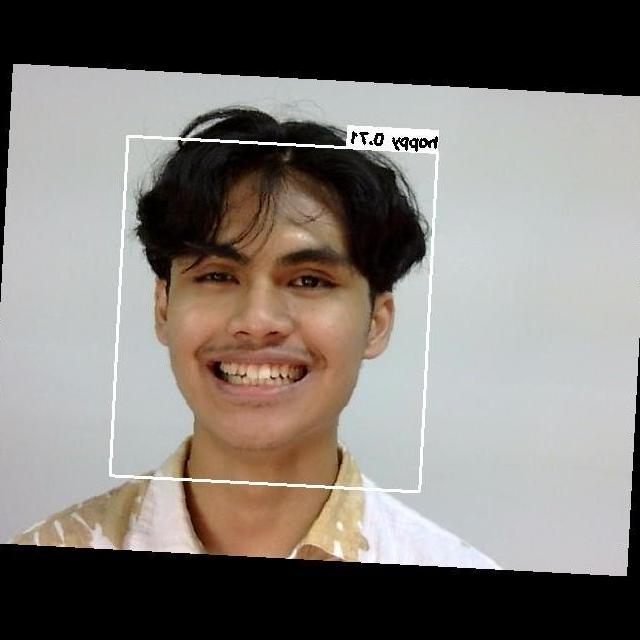Happy: (162, 209, 379, 431)
